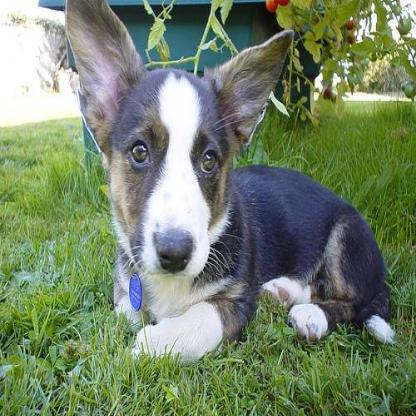Cardigan: (63, 0, 394, 363)
